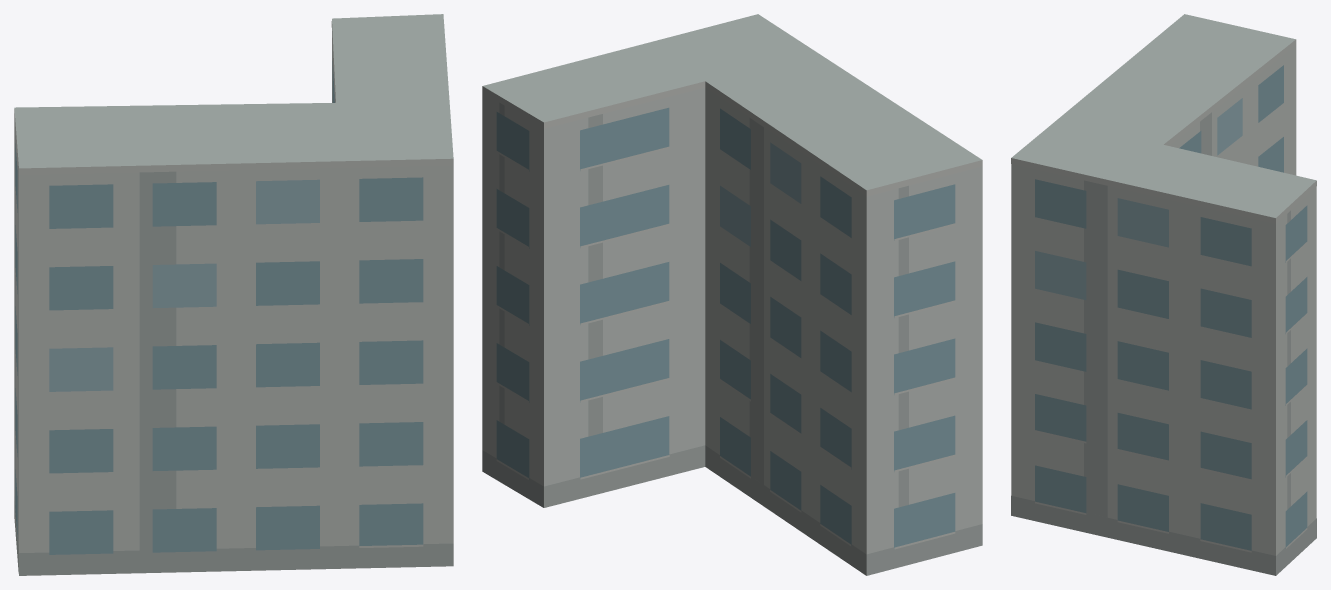
Rendered from survey-upis-32915706.glb.
3 renders of one model, left to right at view 1: azimuth 30°, elevation 25°; view 2: azimuth 150°, elevation 25°; view 3: azimuth 270°, elevation 25°, orthographic. The views are drawn at different scales.
Parts seen in each view (by area): view 1: survey-upis-32915706.tmp; view 2: survey-upis-32915706.tmp; view 3: survey-upis-32915706.tmp.
Boxes of the visible parts, <box> form: survey-upis-32915706.tmp: <box>14,14,453,575</box>; survey-upis-32915706.tmp: <box>482,14,982,575</box>; survey-upis-32915706.tmp: <box>1011,14,1316,575</box>.
Bounding box in the file's own units: 18 × 14.7 × 11.39.
